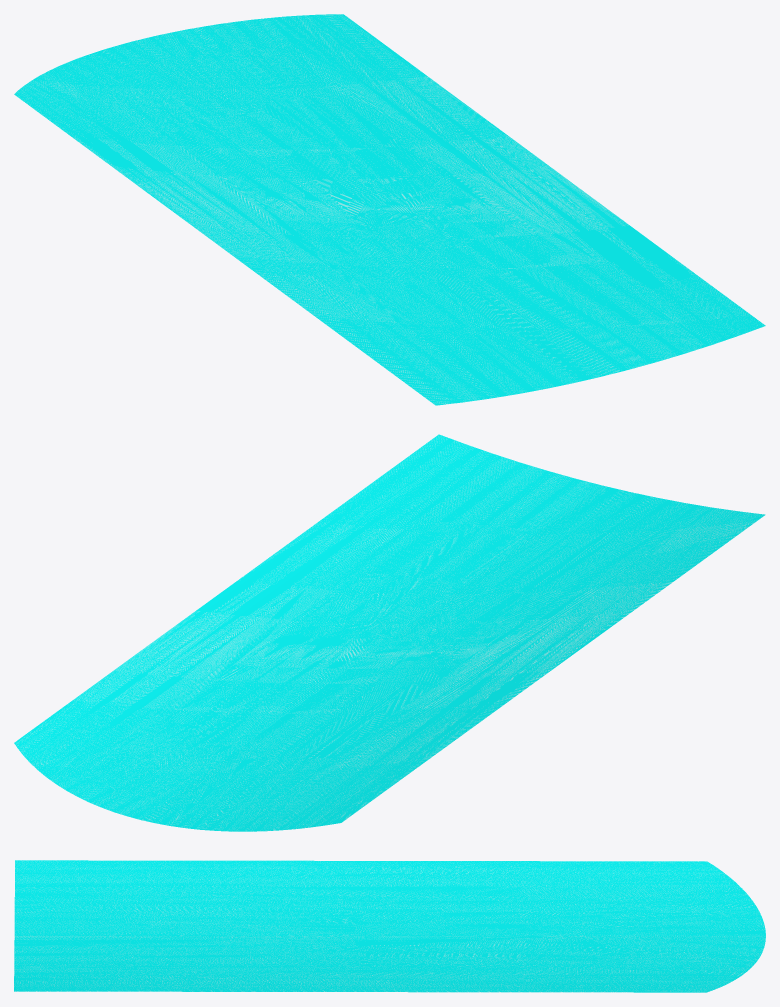
The model's file is original-4.obj.
3 renders of one model, top to bottom at view 1: azimuth 30°, elevation 25°; view 2: azimuth 150°, elevation 25°; view 3: azimuth 270°, elevation 25°, orthographic. The views are drawn at different scales.
Parts seen in each view (by area): view 1: mesh1/mesh1-geometry#mesh1-geometry; view 2: mesh1/mesh1-geometry#mesh1-geometry; view 3: mesh1/mesh1-geometry#mesh1-geometry.
Boxes of the visible parts, x1=… form: mesh1/mesh1-geometry#mesh1-geometry: x1=14, y1=14, x2=765, y2=405; mesh1/mesh1-geometry#mesh1-geometry: x1=14, y1=434, x2=765, y2=831; mesh1/mesh1-geometry#mesh1-geometry: x1=14, y1=860, x2=765, y2=992.
Size of the model in its own units: 0.4897 by 0.0157 by 1.18.
